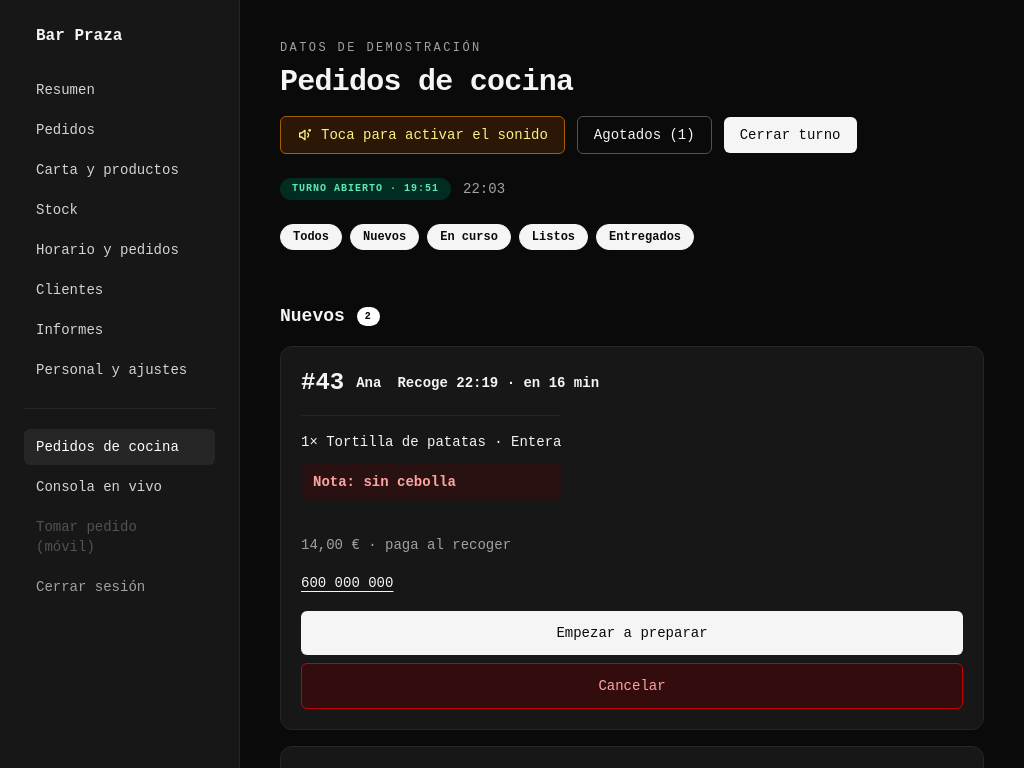
Test case: Cerrar turno › closes the shift on Sí: notice from the top, closed label, and no second close
Step 1. Click the button "Cerrar turno" → (790, 135), box [724,117,856,153]
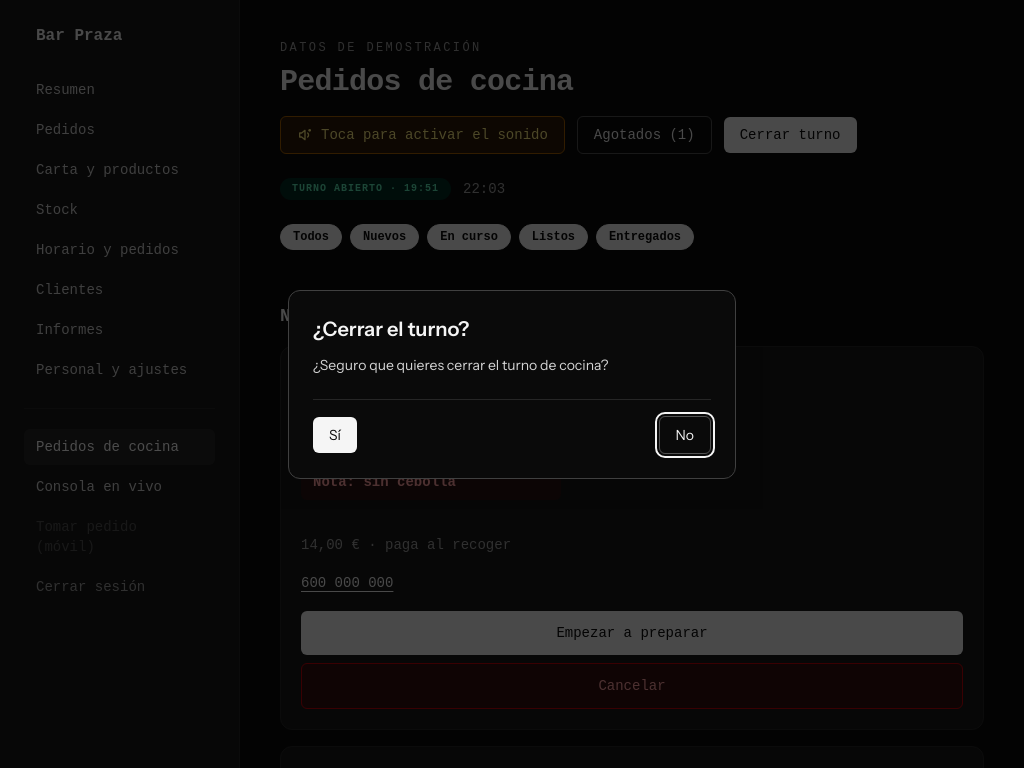
Step 2. Click the button "Sí" → (335, 434), box [313,416,357,452]
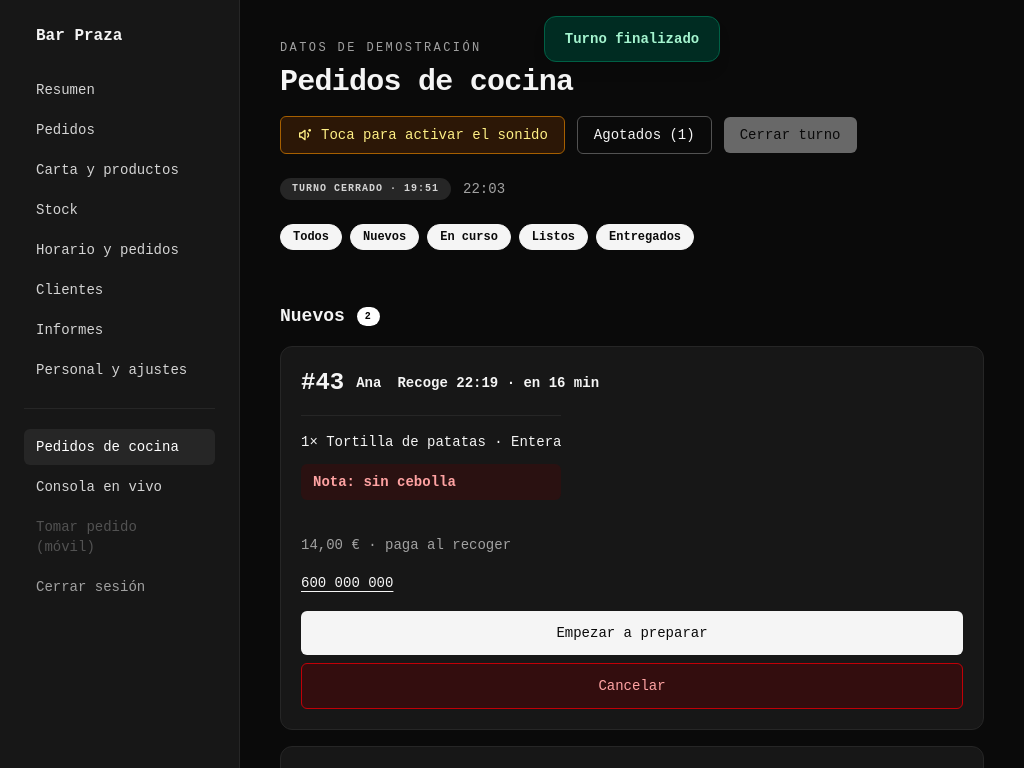
Result: the text "Turno finalizado" is shown at [544,16,720,62]
Result: the text "Turno cerrado · 19:51" is shown at [280,178,451,200]
Result: the button "Cerrar turno" is disabled at [724,117,856,153]
